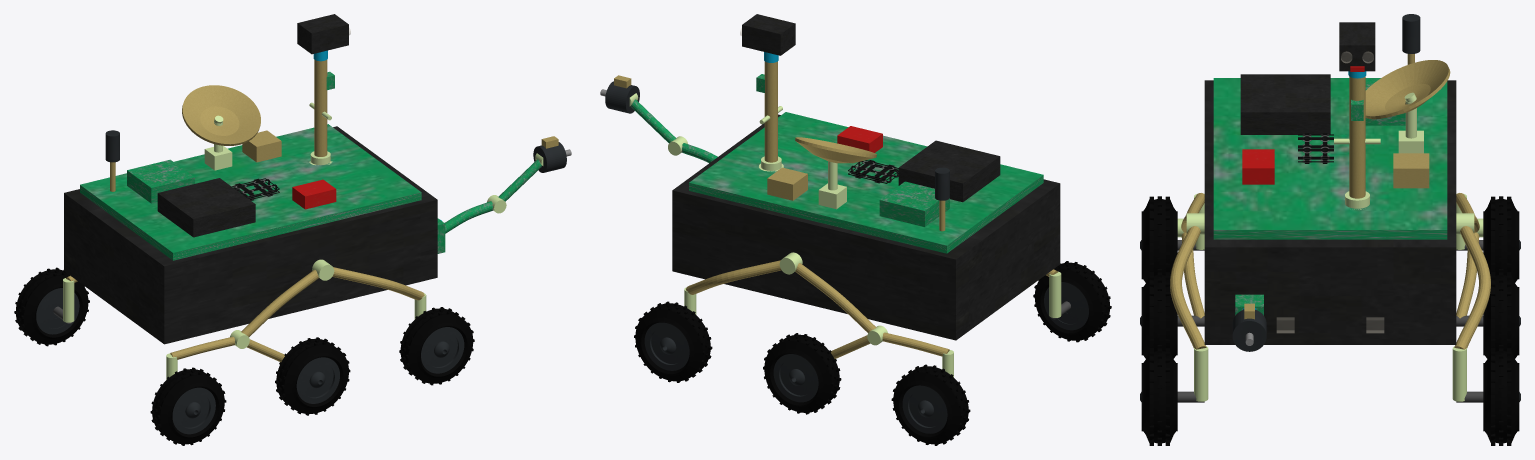
The model's file is Astronomy_Mars_rover__0000.glb.
3 views of the same model, side by side, from view 1: azimuth 30°, elevation 25°; view 2: azimuth 150°, elevation 25°; view 3: azimuth 270°, elevation 25° (orthographic). The views are drawn at different scales.
Visible parts, largest first — view 1: body::chassis_box, body::deck_plate, body::deck_equipment_box, high_gain_antenna::hga_dish, rear_right_wheel::tire, front_right_wheel::tire, middle_right_wheel::tire, rear_left_wheel::tire, body::deck_electronics_box, mast_camera_head::head_box, rear_right_wheel::wheel_disc, front_right_wheel::wheel_disc (+12 smaller); view 2: body::chassis_box, body::deck_plate, body::deck_equipment_box, rear_left_wheel::tire, middle_left_wheel::tire, front_left_wheel::tire, rear_right_wheel::tire, body::deck_electronics_box, mast_camera_head::head_box, middle_left_wheel::wheel_disc, rear_left_wheel::wheel_disc, front_left_wheel::wheel_disc (+13 smaller); view 3: body::chassis_box, body::deck_plate, body::deck_equipment_box, front_left_wheel::tire, front_right_wheel::tire, high_gain_antenna::hga_dish, rear_left_wheel::tire, rear_right_wheel::tire, middle_left_wheel::tire, middle_right_wheel::tire, camera_mast::mast_column, mast_camera_head::head_box (+14 smaller).
Boxes of the visible parts, x1=… form: body::chassis_box: x1=64, y1=126, x2=437, y2=344; body::deck_plate: x1=80, y1=124, x2=421, y2=260; body::deck_equipment_box: x1=157, y1=178, x2=255, y2=237; high_gain_antenna::hga_dish: x1=182, y1=85, x2=260, y2=145; rear_right_wheel::tire: x1=150, y1=367, x2=226, y2=445; front_right_wheel::tire: x1=399, y1=307, x2=474, y2=385; middle_right_wheel::tire: x1=275, y1=337, x2=350, y2=415; rear_left_wheel::tire: x1=14, y1=267, x2=89, y2=346; body::deck_electronics_box: x1=127, y1=159, x2=194, y2=203; mast_camera_head::head_box: x1=297, y1=14, x2=348, y2=54; rear_right_wheel::wheel_disc: x1=172, y1=387, x2=215, y2=434; front_right_wheel::wheel_disc: x1=421, y1=327, x2=464, y2=373; body::chassis_box: x1=672, y1=114, x2=1060, y2=340; body::deck_plate: x1=689, y1=112, x2=1043, y2=253; body::deck_equipment_box: x1=898, y1=140, x2=1000, y2=202; rear_left_wheel::tire: x1=891, y1=364, x2=970, y2=445; middle_left_wheel::tire: x1=763, y1=333, x2=841, y2=414; front_left_wheel::tire: x1=634, y1=301, x2=712, y2=382; rear_right_wheel::tire: x1=1033, y1=261, x2=1111, y2=342; body::deck_electronics_box: x1=879, y1=181, x2=949, y2=226; mast_camera_head::head_box: x1=742, y1=14, x2=795, y2=55; middle_left_wheel::wheel_disc: x1=773, y1=354, x2=818, y2=402; rear_left_wheel::wheel_disc: x1=902, y1=385, x2=947, y2=433; front_left_wheel::wheel_disc: x1=644, y1=322, x2=689, y2=370; body::chassis_box: x1=1204, y1=80, x2=1456, y2=344; body::deck_plate: x1=1213, y1=78, x2=1447, y2=239; body::deck_equipment_box: x1=1240, y1=74, x2=1330, y2=134; front_left_wheel::tire: x1=1483, y1=348, x2=1519, y2=445; front_right_wheel::tire: x1=1141, y1=348, x2=1177, y2=445; high_gain_antenna::hga_dish: x1=1365, y1=60, x2=1450, y2=119; rear_left_wheel::tire: x1=1483, y1=196, x2=1519, y2=282; rear_right_wheel::tire: x1=1141, y1=196, x2=1177, y2=282; middle_left_wheel::tire: x1=1483, y1=272, x2=1519, y2=358; middle_right_wheel::tire: x1=1141, y1=272, x2=1177, y2=358; camera_mast::mast_column: x1=1349, y1=76, x2=1365, y2=198; mast_camera_head::head_box: x1=1339, y1=22, x2=1375, y2=71.
Bounding box in the file's own units: 3.63 × 2.37 × 2.12.
Materials: 12 (7 with a texture image).
